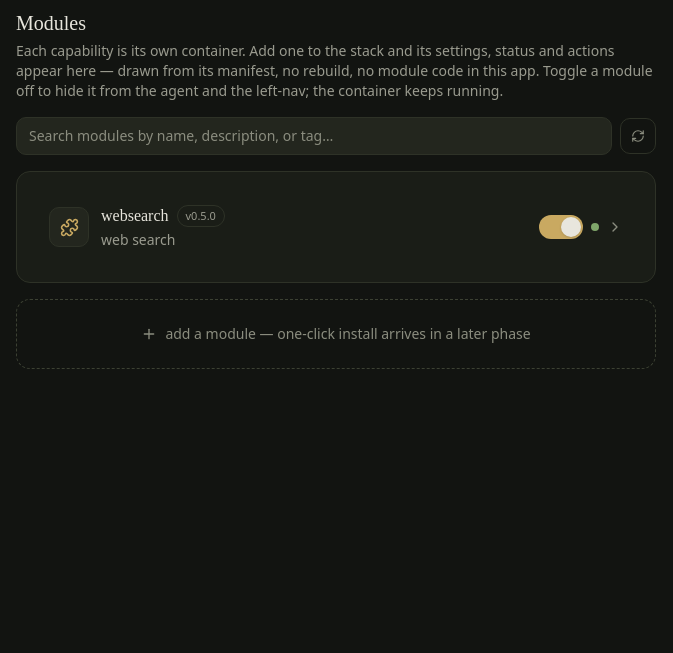
Test case: Modules page: an option gated on a provider key (#984) › locks OpenRouter until an OpenRouter key is stored
Click the button named "expand".
click(615, 227)  # box [607,219,623,235]
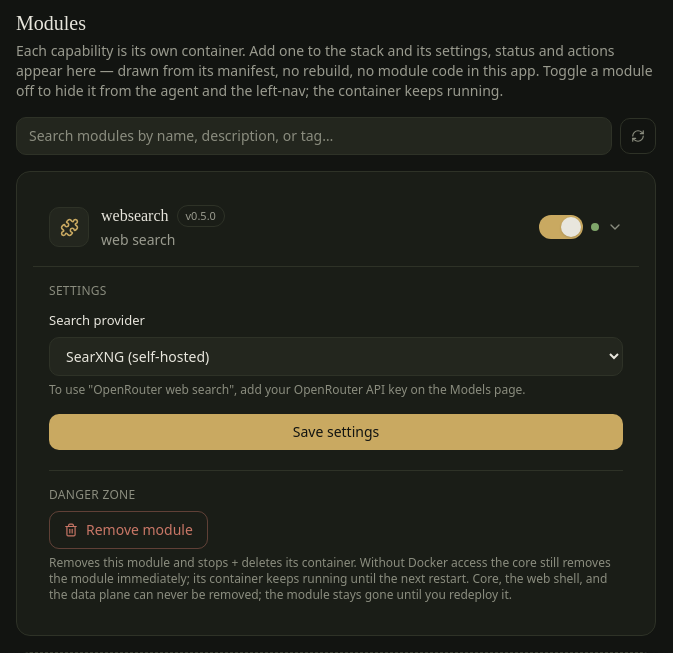
Expected: the text "add your OpenRouter API key on the Models page" is shown, [49,381,526,398]
